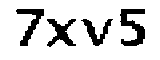5: (115, 6, 150, 50)
7: (10, 5, 45, 49)
v: (80, 17, 113, 50)
x: (44, 15, 78, 49)
